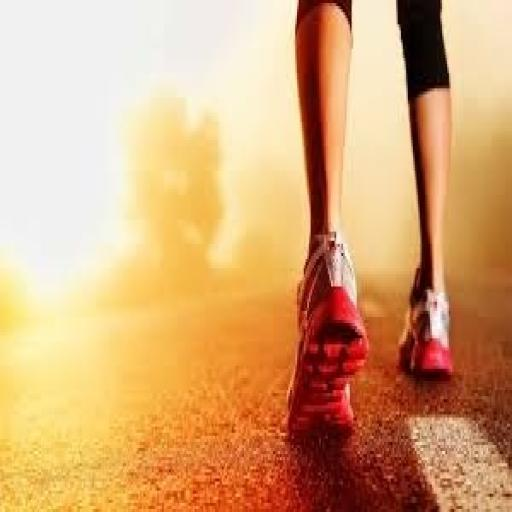running: (284, 0, 458, 445)
